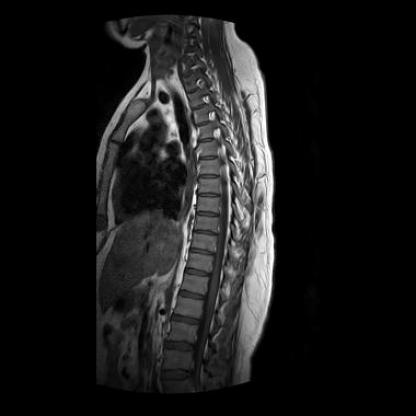Demyelinating Plaquesrotation: (196, 209, 219, 221), (197, 137, 217, 147)
Hemangiomatarotation: (187, 253, 213, 272), (196, 124, 215, 138)
